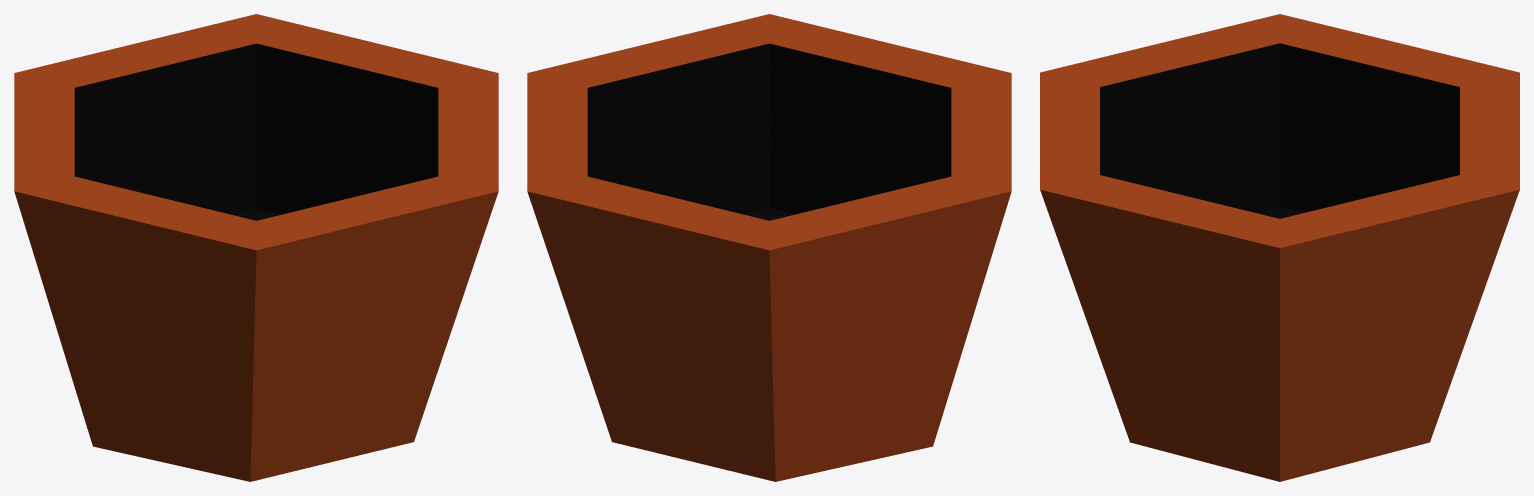
Rendered from pot.gltf.
3 views of the same model, side by side, from view 1: azimuth 30°, elevation 25°; view 2: azimuth 150°, elevation 25°; view 3: azimuth 270°, elevation 25° (orthographic).
Visible parts, largest first — view 1: cylinder; view 2: cylinder; view 3: cylinder.
Part boxes in pixels (bbox=[...]): cylinder: bbox=[14, 14, 498, 481]; cylinder: bbox=[527, 14, 1011, 481]; cylinder: bbox=[1040, 14, 1519, 481].
Bounding box in the file's own units: 1.15 × 0.625 × 1.
Materials: 1 (1 with a texture image).
